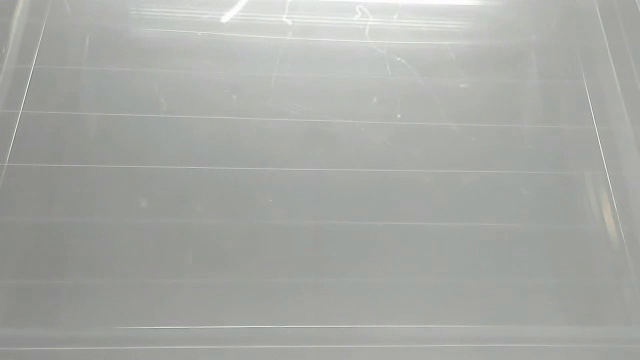alpha: (218, 1, 257, 25)
